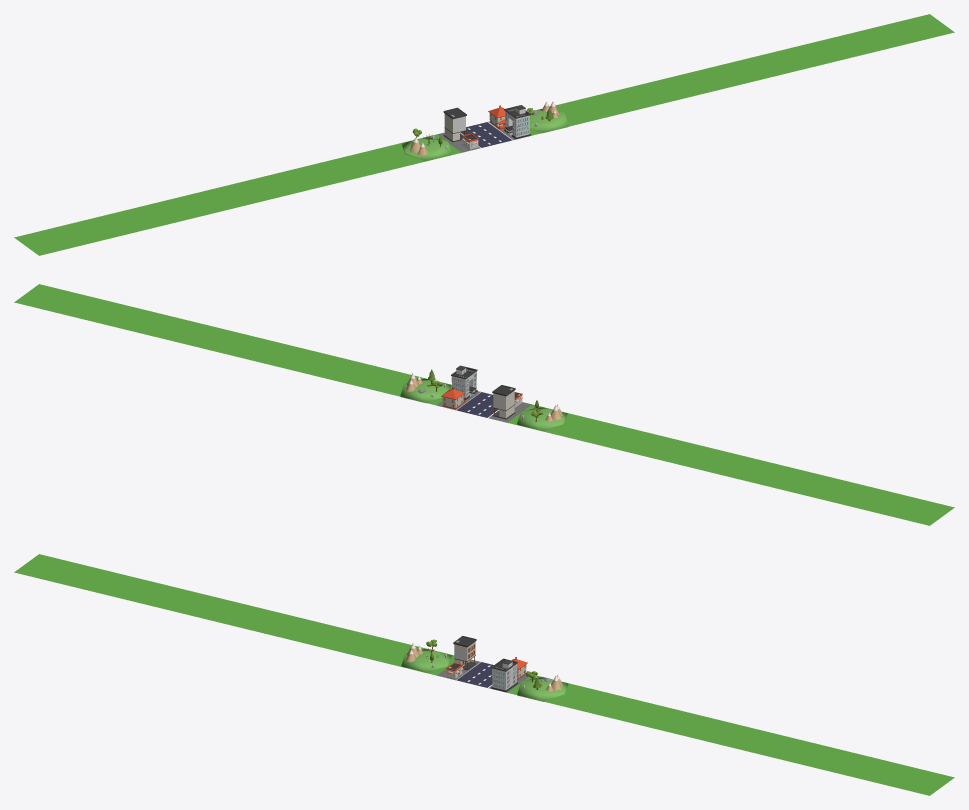
File: naseljev3.glb
3 views of the same model, one above another, from view 1: azimuth 30°, elevation 25°; view 2: azimuth 150°, elevation 25°; view 3: azimuth 330°, elevation 25° (orthographic).
Visible parts, largest first — view 1: Plane.003, Plane.004, Plane.008, Hospital_Cube.023, Object_8.002, Box002, Object_8.001; view 2: Plane.003, Plane.004, Plane.008, Object_8.002, Object_8.001, Hospital_Cube.023, Box002; view 3: Plane.003, Plane.004, Object_8.001, Object_8.002, Hospital_Cube.023, Box002.
Boxes of the visible parts, x1,y1,x2,y2 form: Plane.003: (529,14,954,135); Plane.004: (14,134,461,255); Plane.008: (360,142,427,171); Hospital_Cube.023: (504,105,530,138); Object_8.002: (401,137,451,160); Box002: (460,122,512,147); Object_8.001: (530,109,568,133); Plane.003: (14,284,451,405); Plane.004: (507,404,954,525); Plane.008: (547,412,608,441); Object_8.002: (517,407,567,430); Object_8.001: (400,378,451,403); Hospital_Cube.023: (451,365,477,399); Box002: (456,392,499,417); Plane.003: (507,675,954,795); Plane.004: (14,554,454,675); Object_8.001: (517,677,568,701); Object_8.002: (401,649,451,672); Hospital_Cube.023: (491,658,517,691); Box002: (456,662,493,687).
Size of the model in its own units: 1307 by 40.92 by 62.2.
Materials: 19 (5 with a texture image).
